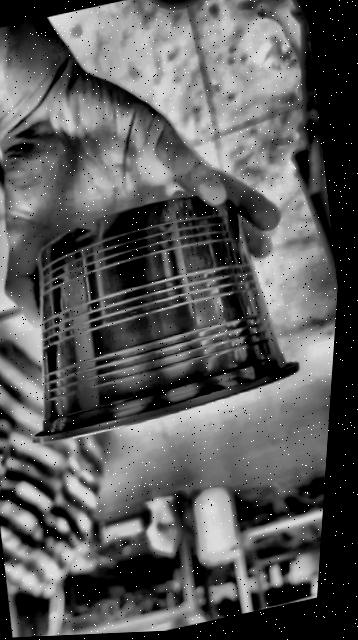pot: (31, 196, 297, 442)
